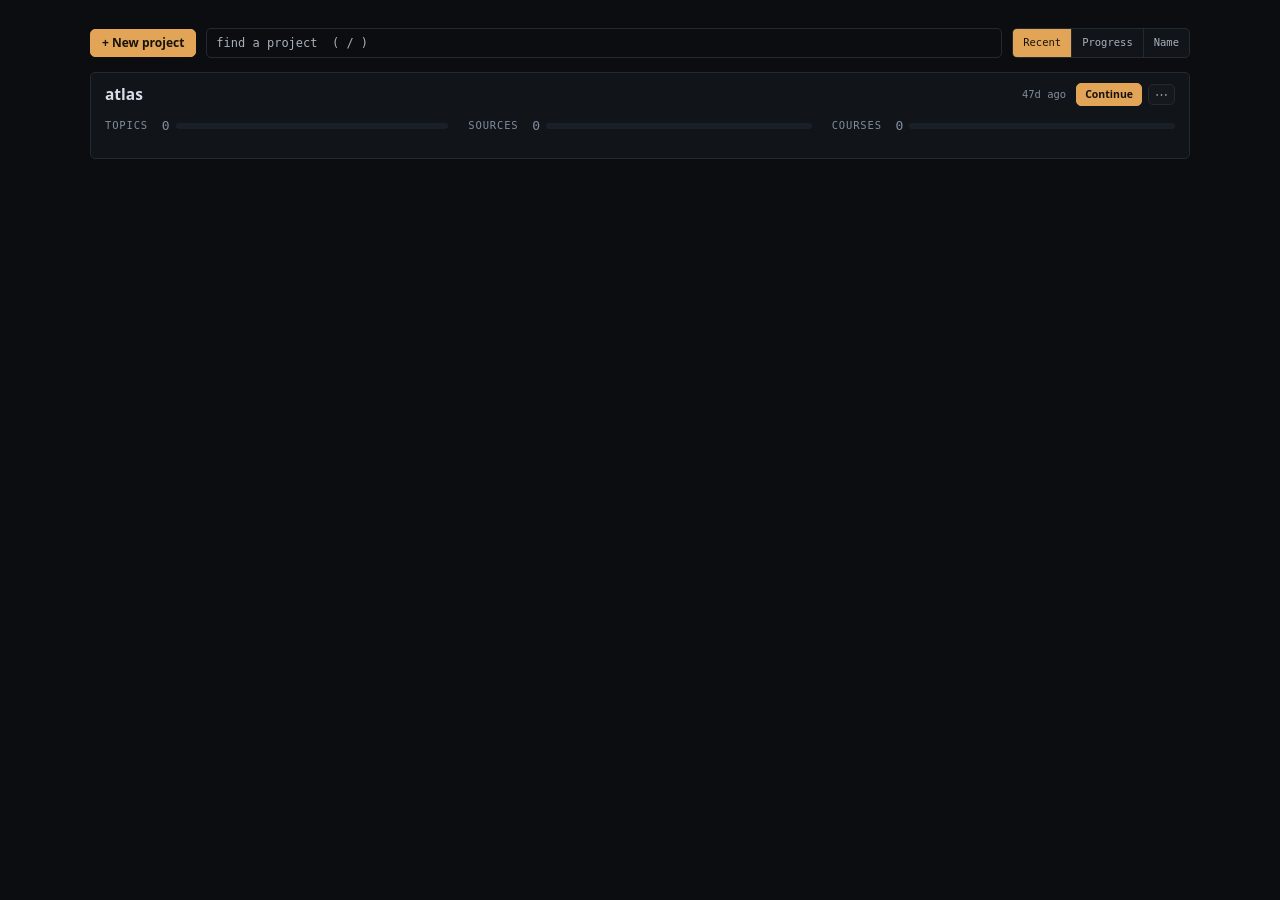
Test: keeps the delete confirmation’s wording, in the console’s own dialog
Expected: the link "atlas" is shown, left=105, top=83, right=143, bottom=106
Click the button named "More actions for atlas": {"x": 1162, "y": 95} left=1148, top=84, right=1175, bottom=105
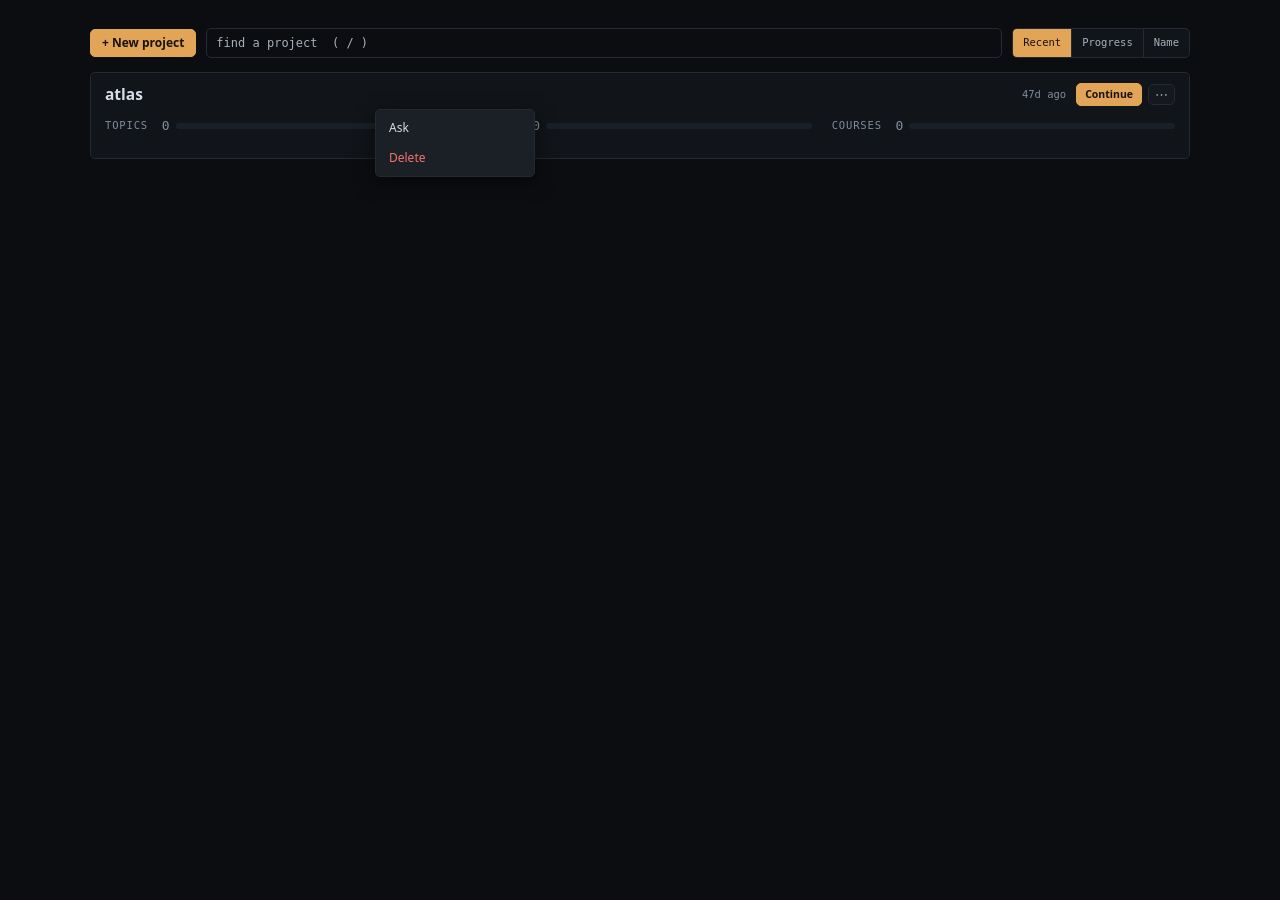
Click the menu item "Delete": {"x": 407, "y": 158} left=389, top=149, right=426, bottom=166
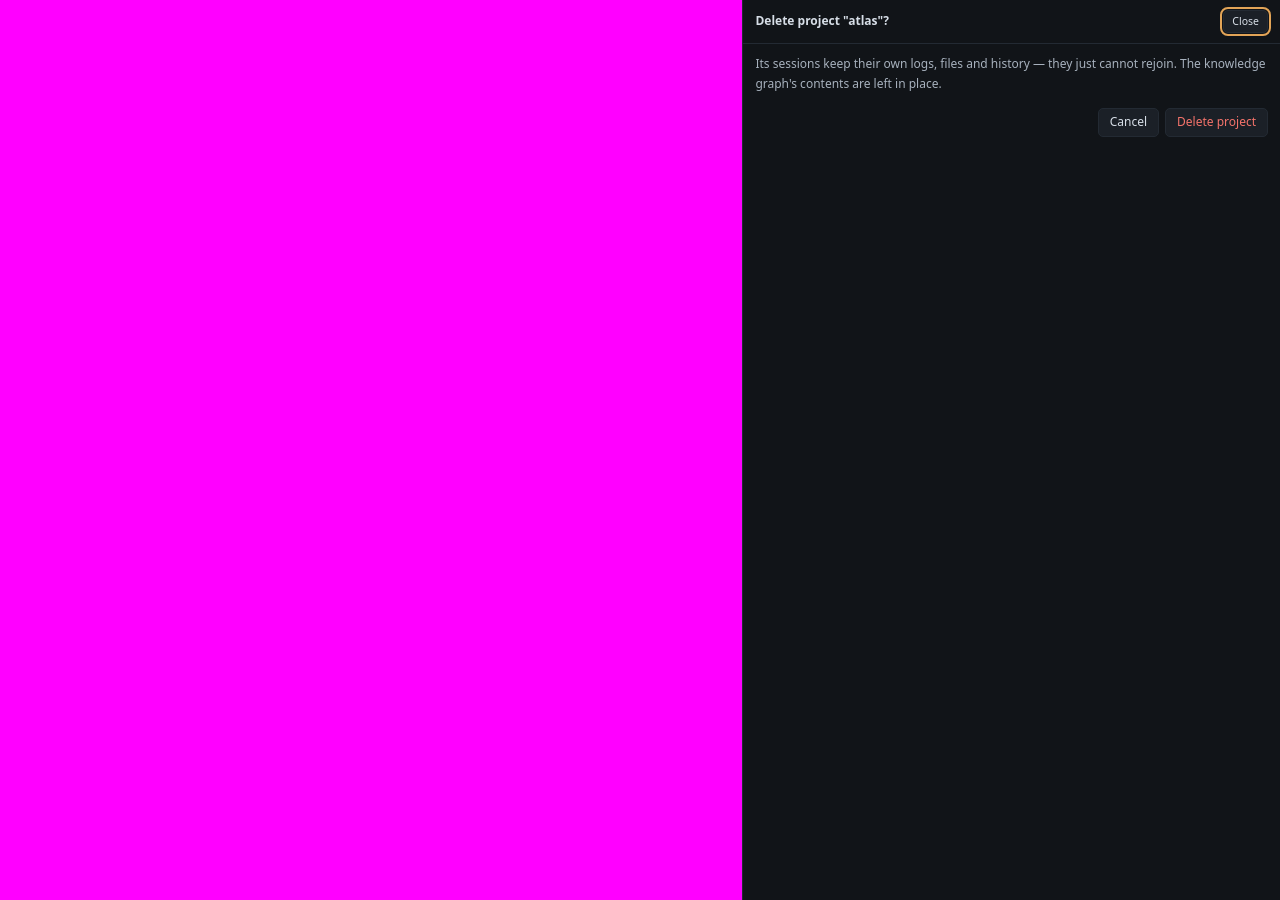
Expected: the heading "Delete project \"atlas\"?" is shown, left=755, top=12, right=889, bottom=30
Expected: the text "knowledge graph's contents are left in place" is shown, left=755, top=55, right=1266, bottom=92
